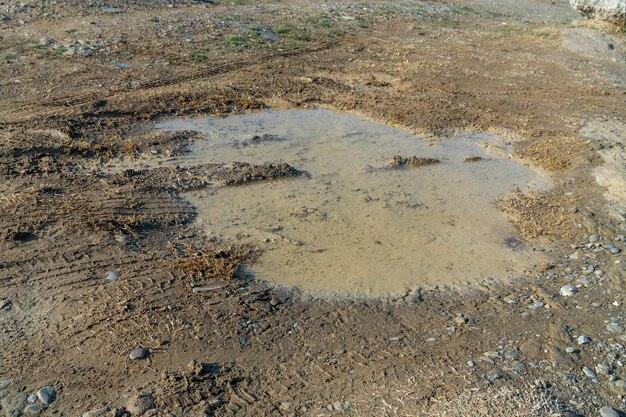pothole: (114, 90, 578, 317)
